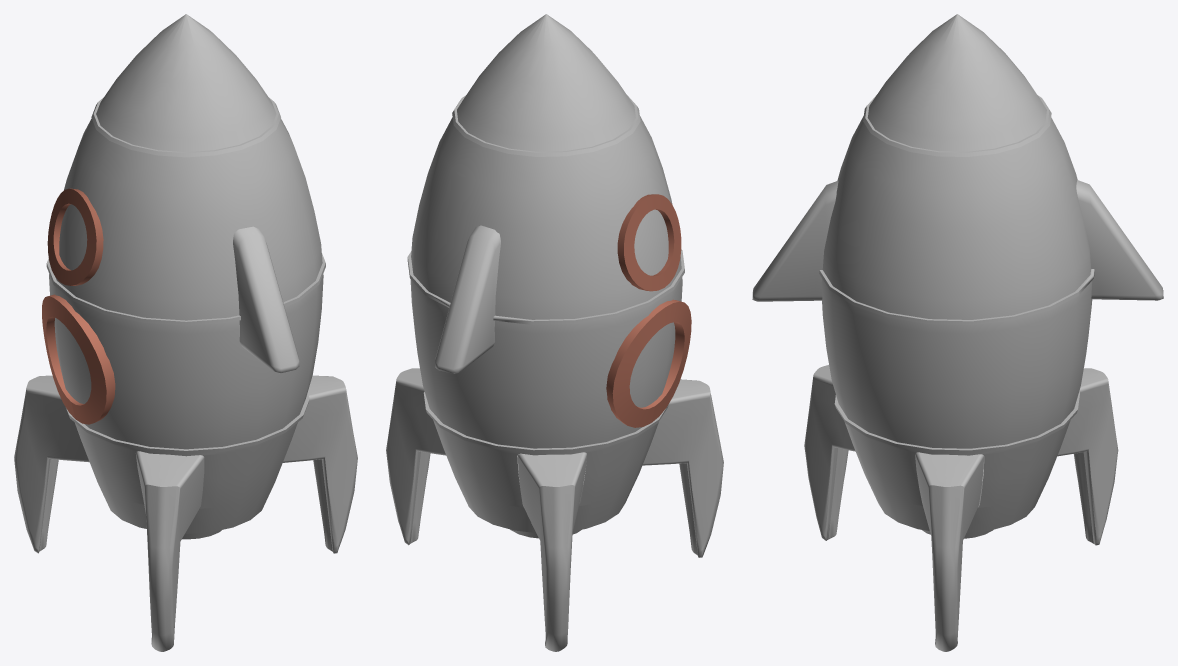
Rendered from SpaceShip_HenkeTest.fbx.
The picture shows the model from 3 angles, left to right: view 1: azimuth 30°, elevation 25°; view 2: azimuth 150°, elevation 25°; view 3: azimuth 270°, elevation 25°; orthographic projection.
Visible parts, largest first — view 1: Rocket; view 2: Rocket; view 3: Rocket.
Boxes of the visible parts, <box> form: Rocket: <box>14,14,357,651</box>; Rocket: <box>386,14,723,651</box>; Rocket: <box>752,14,1163,651</box>.
Size of the model in its own units: 217 by 410 by 269.
